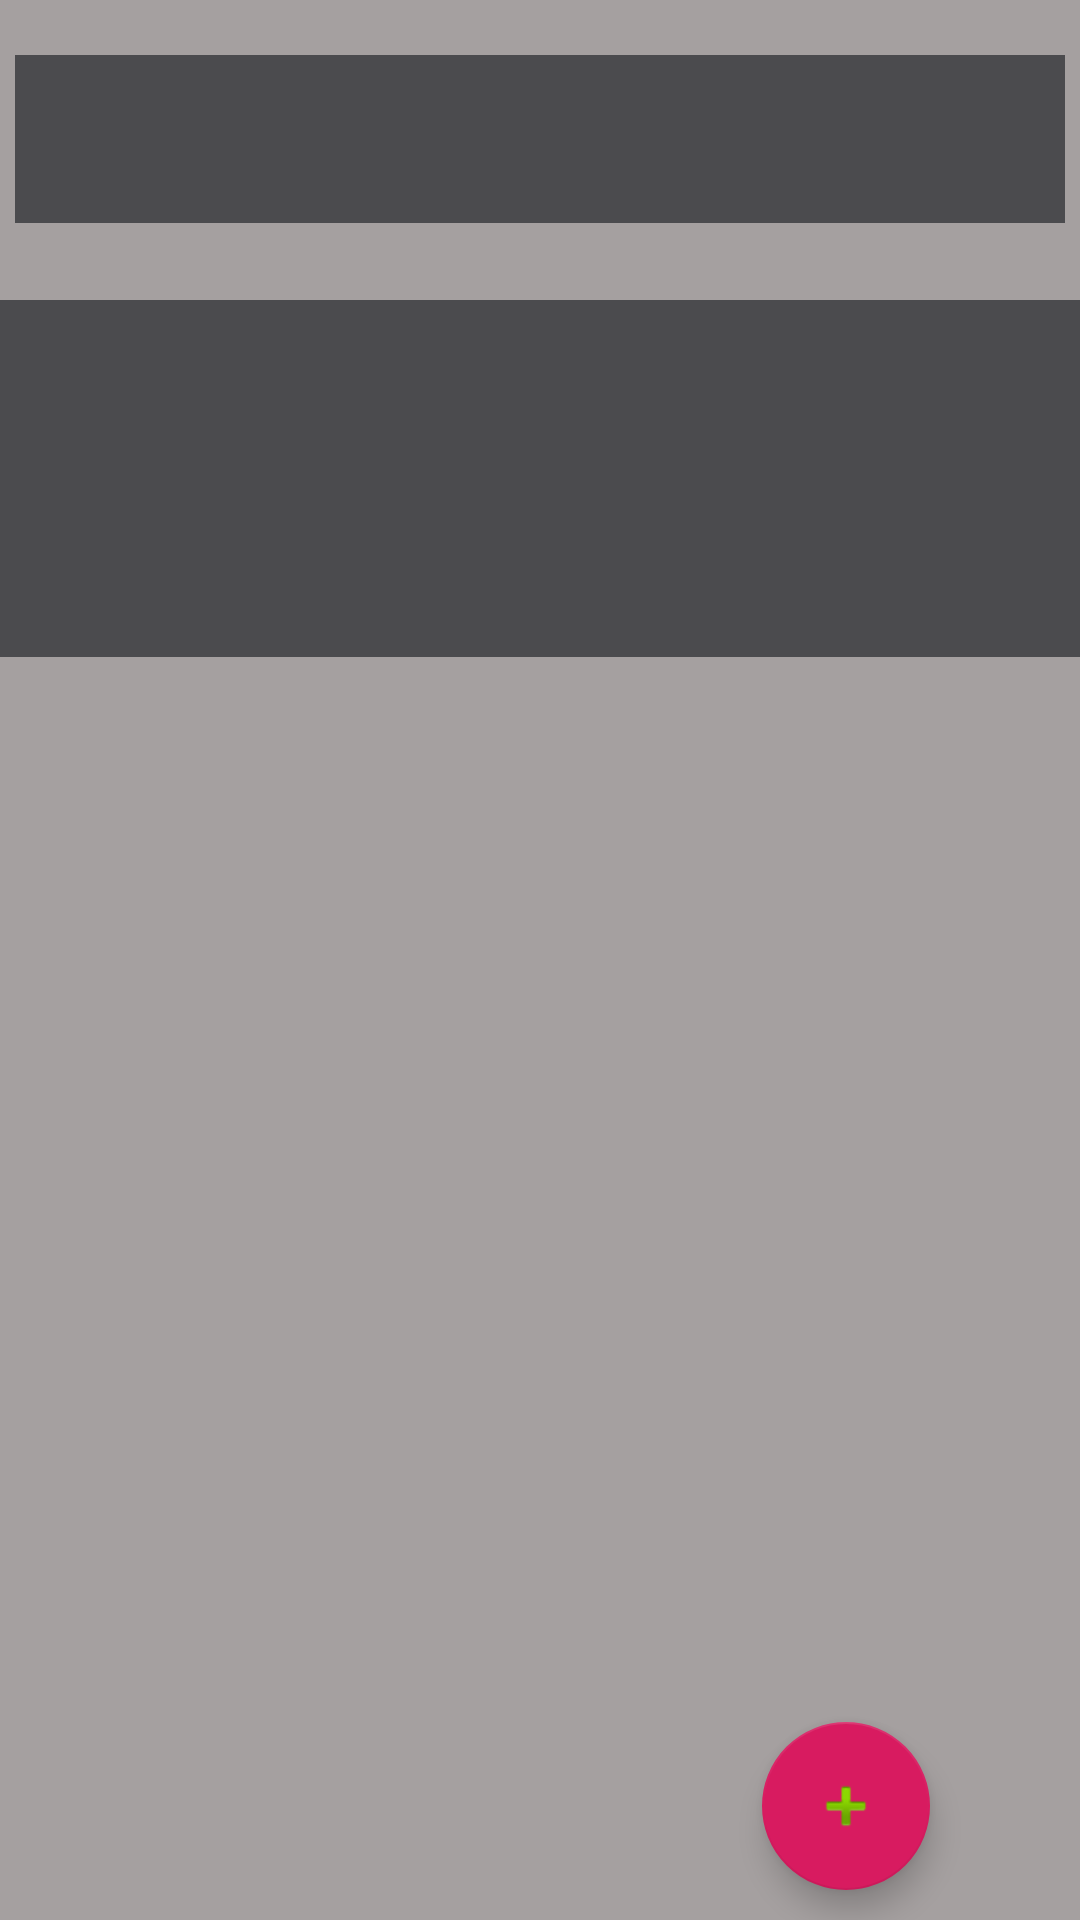

Named icons in this screenshot (1080×1920) and their bounding boxes, (x1, y1, x2, y2):
add: (762, 1722, 930, 1890)
